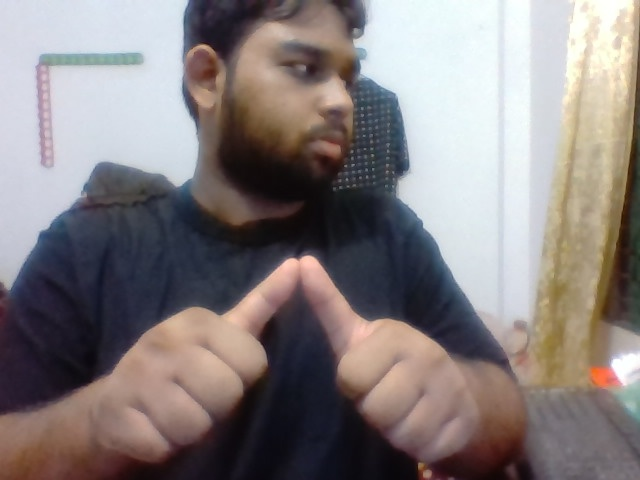A: (87, 244, 485, 480)
